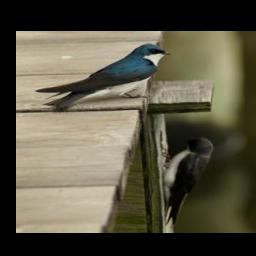Swallow: (36, 43, 172, 108)
